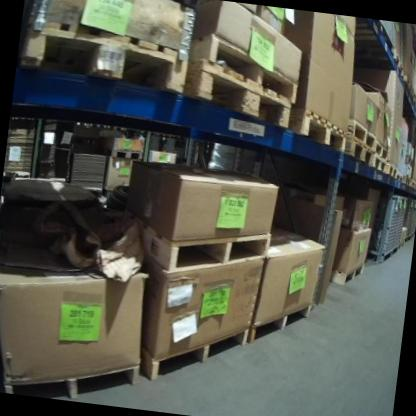pallet: (19, 12, 193, 101), (135, 216, 271, 288), (131, 315, 248, 395), (181, 52, 296, 131), (186, 26, 305, 102), (0, 345, 144, 407), (248, 293, 314, 352), (286, 101, 350, 155), (346, 115, 381, 153), (328, 259, 365, 292), (342, 136, 376, 164), (369, 151, 390, 176), (111, 148, 144, 163), (371, 136, 391, 158), (385, 158, 400, 183)
stillage: (364, 190, 402, 265), (387, 195, 411, 261), (397, 198, 415, 247), (410, 199, 416, 247)
